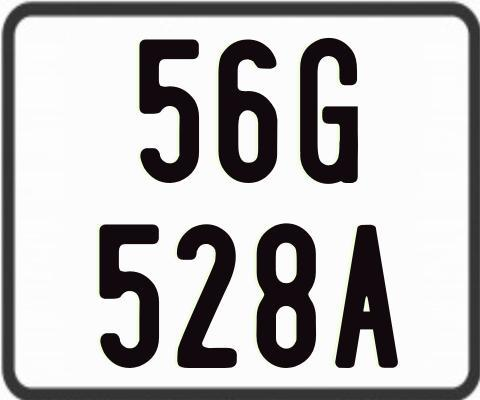2: (174, 224, 239, 369)
5: (97, 223, 161, 370), (139, 36, 199, 181)
6: (215, 40, 274, 188)
8: (256, 223, 321, 369)
A: (335, 224, 403, 370)
G: (299, 36, 362, 186)
